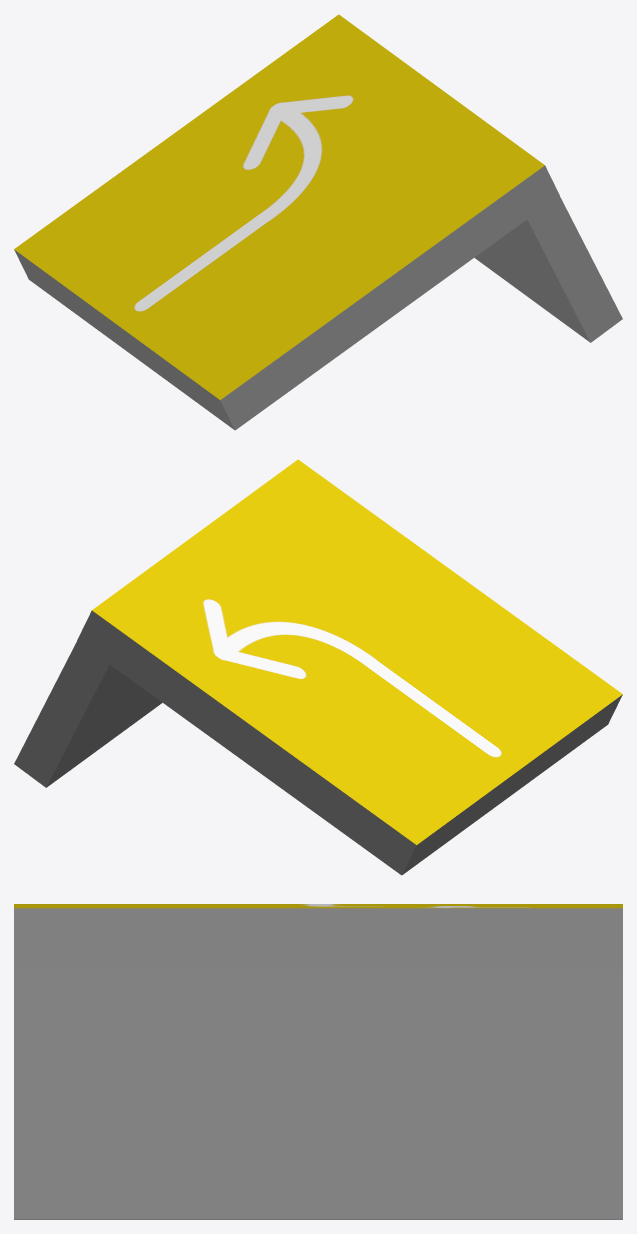
Rendered from slowL.fbx.
3 renders of one model, top to bottom at view 1: azimuth 30°, elevation 25°; view 2: azimuth 150°, elevation 25°; view 3: azimuth 270°, elevation 25°, orthographic. The views are drawn at different scales.
Visible parts, largest first — view 1: sign_back; view 2: sign_back; view 3: sign_back.
Boxes of the visible parts, x1,y1,x2,y2 form: sign_back: [14, 14, 622, 430]; sign_back: [14, 459, 622, 875]; sign_back: [14, 904, 622, 1219].
Bounding box in the file's own units: 225 × 101 × 200.
